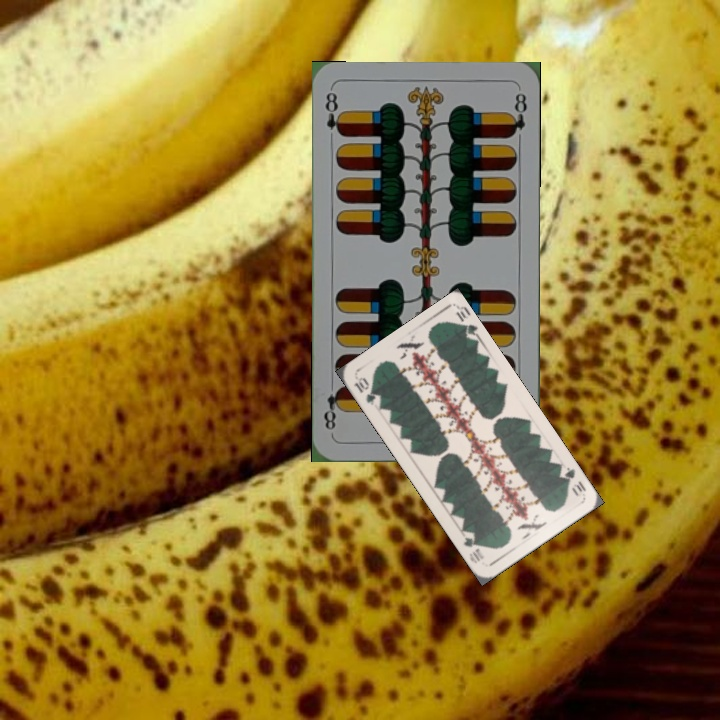E8: (321, 87, 346, 138)
G10: (556, 463, 589, 499), (350, 373, 379, 408)
